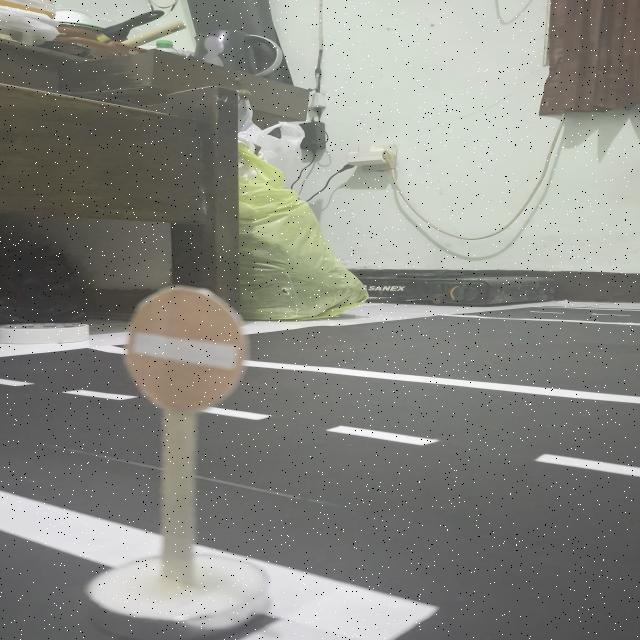Dilarang Masuk: (125, 286, 246, 411)
